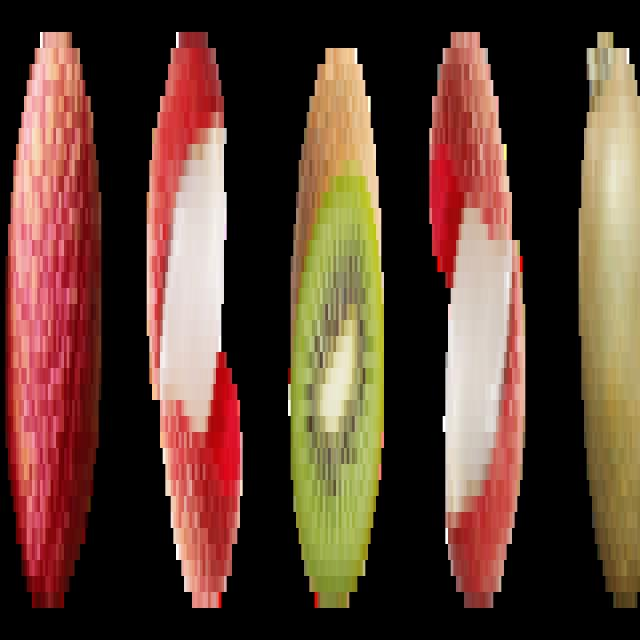kiwifruit: (288, 19, 388, 632)
lychee: (425, 6, 532, 630), (142, 16, 248, 623), (3, 16, 108, 625)
